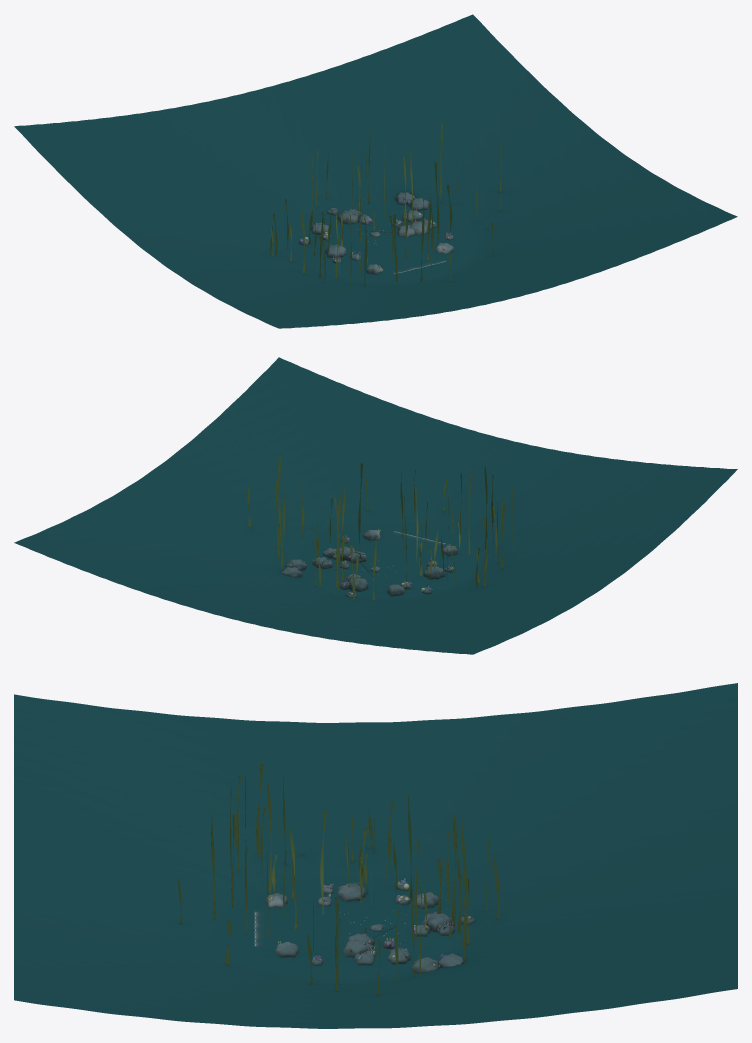
The model's file is sea.glb.
3 views of the same model, one above another, from view 1: azimuth 30°, elevation 25°; view 2: azimuth 150°, elevation 25°; view 3: azimuth 270°, elevation 25° (orthographic). The views are drawn at different scales.
Visible parts, largest first — view 1: ground, things; view 2: ground, things; view 3: ground, things.
Part boxes in pixels (x1,y1,x2,y2): ground: (14,14,737,328); things: (270,122,501,286); ground: (14,357,737,654); things: (247,455,513,600); ground: (14,683,737,1028); things: (178,764,499,995).
Size of the model in its own units: 80 by 14.54 by 80.
Materials: 2 (2 with a texture image).
